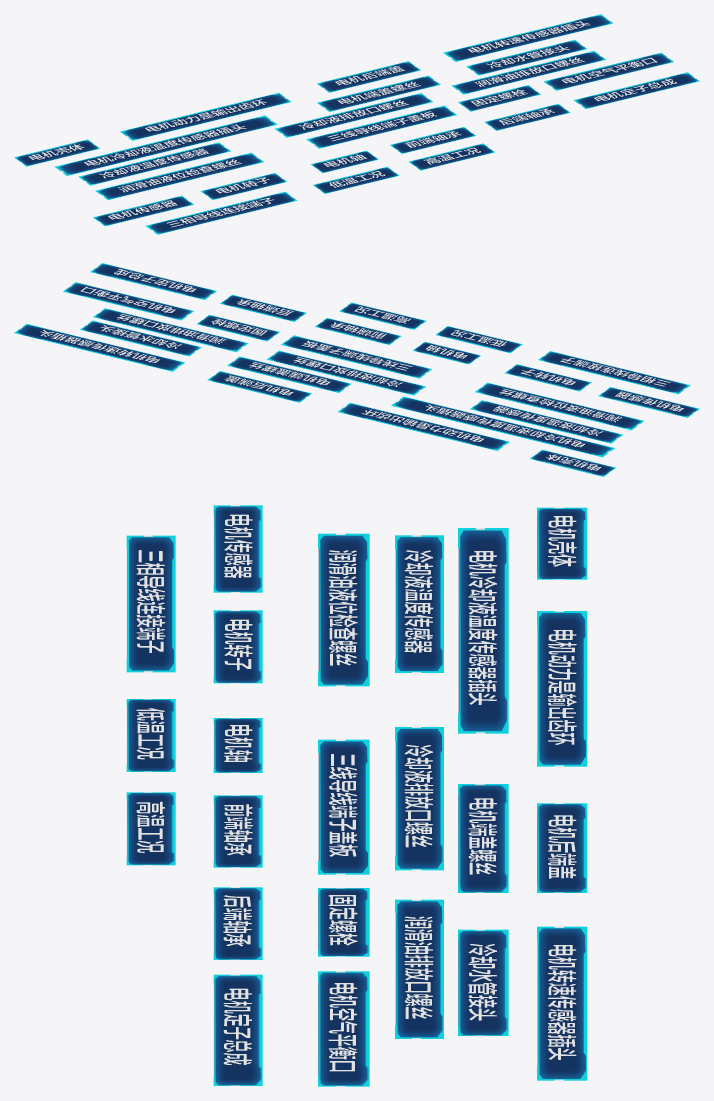
3 views of the same model, one above another, from view 1: azimuth 30°, elevation 25°; view 2: azimuth 150°, elevation 25°; view 3: azimuth 270°, elevation 25° (orthographic). The views are drawn at different scales.
Visible parts, largest first — view 1: Object026, Object029, Object024, Object027, Object036, Object033, Object032, Object022, Object025, Object034, Object031, Object037 (+23 smaller); view 2: Object026, Object029, Object024, Object027, Object033, Object036, Object032, Object022, Object025, Object034, Object031, Object037 (+25 smaller); view 3: Object026, Object024, Object029, Object027, Object036, Object033, Object022, Object032, Object025, Object034, Object037, Object031 (+29 smaller).
Boxes of the visible parts, x1,y1,x2,y2 form: Object026: [54, 115, 277, 175]; Object029: [120, 93, 290, 140]; Object024: [95, 152, 263, 199]; Object027: [443, 14, 613, 61]; Object036: [306, 105, 456, 148]; Object033: [275, 93, 432, 137]; Object032: [451, 51, 605, 94]; Object022: [145, 191, 296, 234]; Object025: [78, 142, 230, 185]; Object034: [543, 52, 673, 90]; Object031: [317, 75, 440, 111]; Object037: [573, 72, 699, 108]; Object026: [391, 396, 614, 457]; Object029: [338, 402, 509, 450]; Object024: [475, 382, 643, 430]; Object027: [14, 324, 184, 371]; Object033: [267, 350, 425, 395]; Object036: [281, 335, 432, 378]; Object032: [93, 308, 248, 351]; Object022: [538, 351, 690, 394]; Object025: [470, 400, 622, 443]; Object034: [63, 282, 193, 320]; Object031: [227, 356, 351, 392]; Object037: [90, 263, 216, 299]; Object026: [458, 528, 508, 733]; Object024: [318, 533, 369, 686]; Object029: [537, 611, 587, 766]; Object027: [537, 926, 587, 1080]; Object036: [318, 739, 369, 874]; Object033: [395, 727, 443, 870]; Object022: [126, 535, 175, 672]; Object032: [395, 899, 443, 1038]; Object025: [395, 535, 443, 672]; Object034: [318, 971, 369, 1086]; Object037: [213, 974, 262, 1085]; Object031: [458, 784, 508, 892].
Bounding box in the file's own units: 186 × 0.2818 × 62.49.
2 materials, 2 textured.
